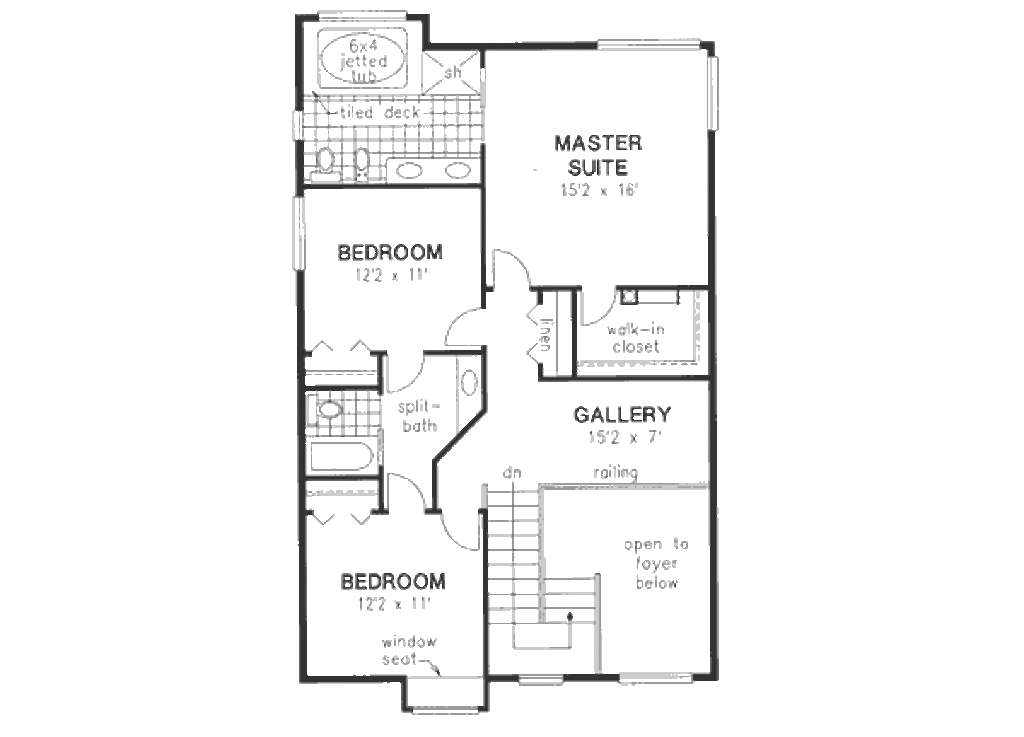door: (433, 300, 486, 349), (484, 245, 531, 290), (437, 510, 483, 554), (385, 350, 429, 395), (575, 282, 618, 326), (385, 472, 423, 513)
large_sink: (304, 141, 344, 187), (303, 391, 350, 427)
small_sink: (386, 157, 481, 186), (454, 356, 481, 415)
stairs: (486, 475, 611, 672)
tub: (301, 435, 382, 474)
window: (290, 191, 309, 271), (312, 10, 413, 25), (706, 55, 722, 131), (597, 38, 697, 50), (515, 676, 572, 687), (291, 107, 307, 143)
